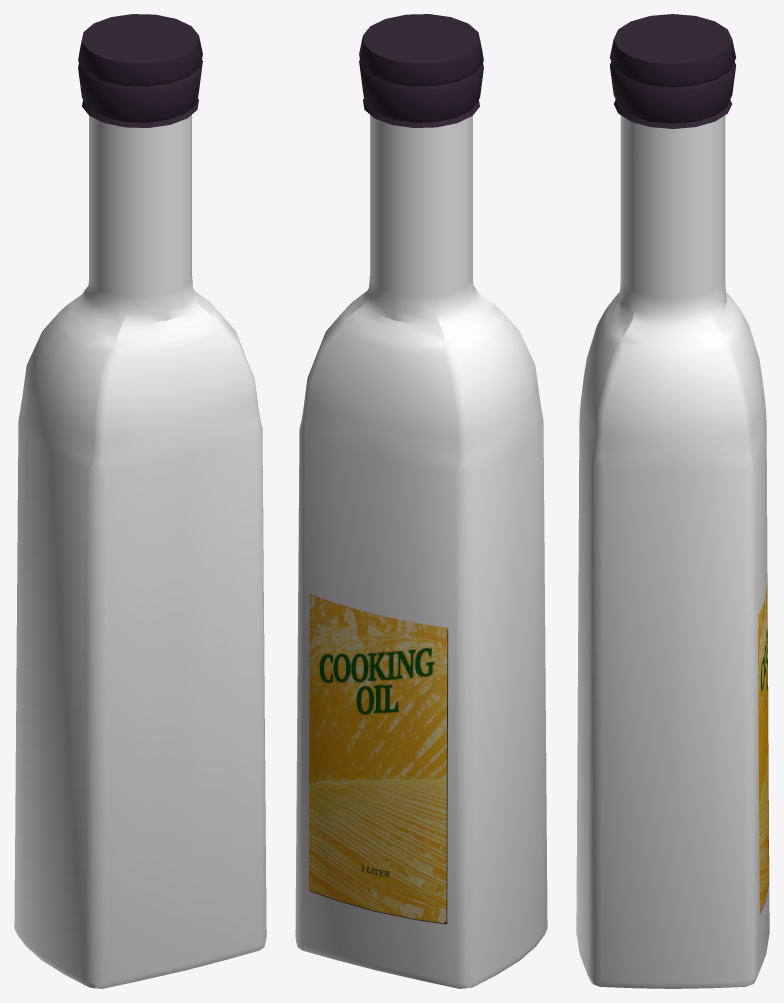
The model's file is Cooking Oil.glb.
3 views of the same model, side by side, from view 1: azimuth 30°, elevation 25°; view 2: azimuth 150°, elevation 25°; view 3: azimuth 270°, elevation 25° (orthographic).
Parts seen in each view (by area): view 1: Glass, Lid; view 2: Glass, Lid; view 3: Glass, Lid.
Boxes of the visible parts, x1,y1,x2,y2 form: Glass: (14,115,266,988); Lid: (78,14,202,127); Glass: (295,115,547,988); Lid: (359,14,483,127); Glass: (576,115,769,988); Lid: (609,14,736,128).
Bounding box in the file's own units: 2.55 × 10.82 × 2.09.
Materials: 2 (1 with a texture image).
